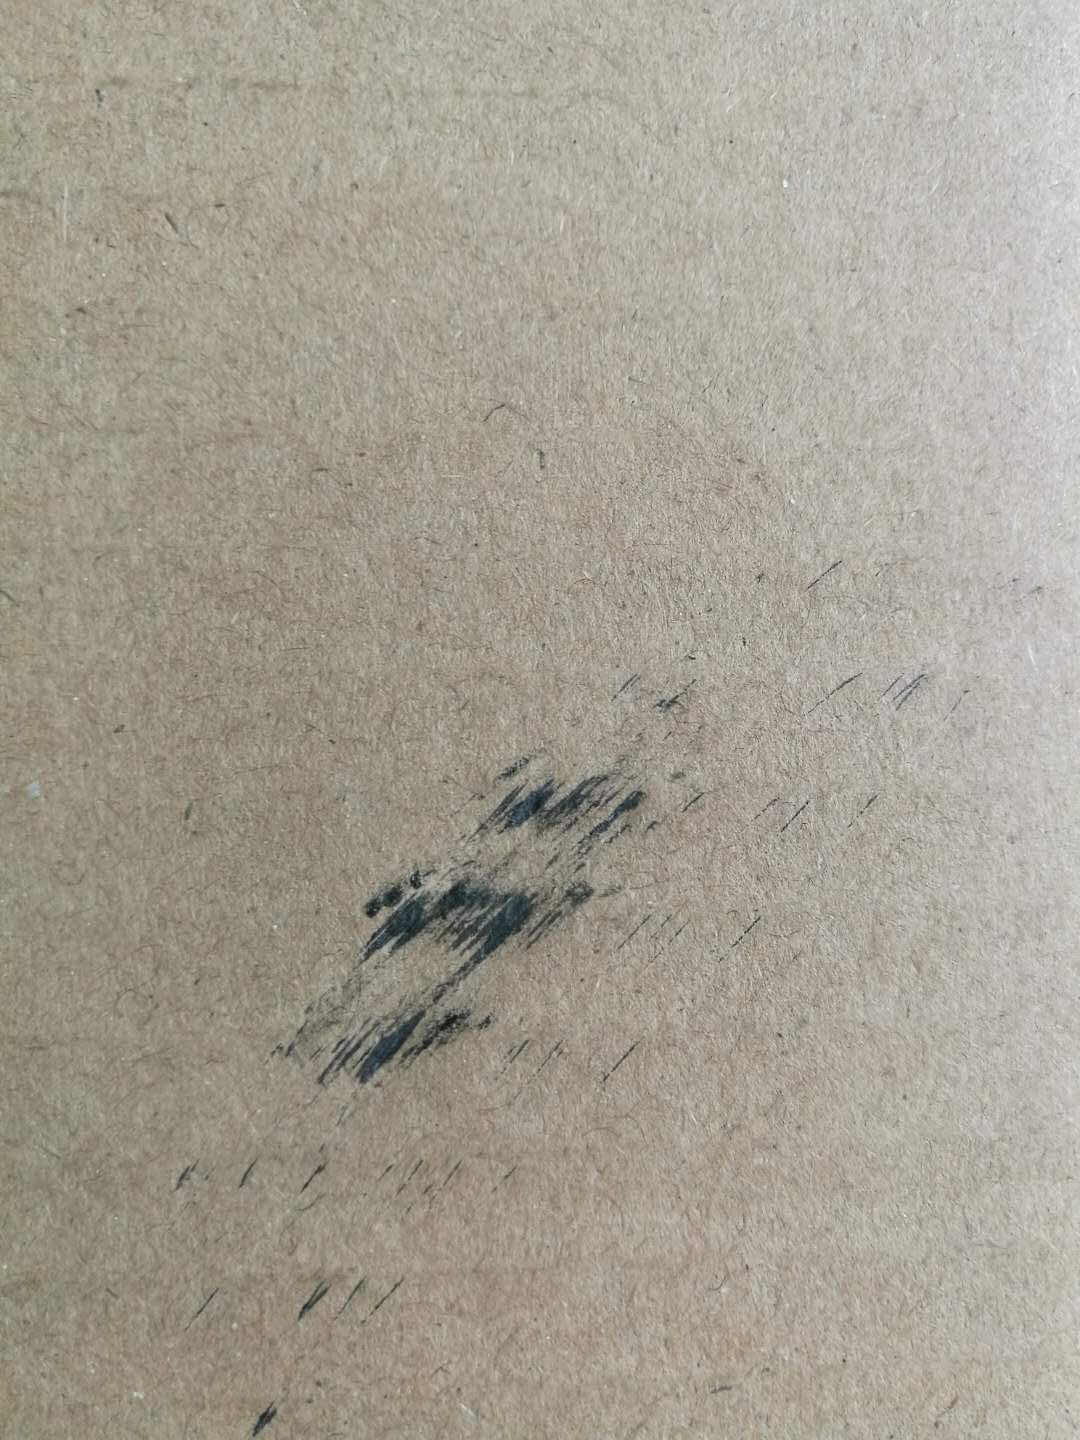defect: (100, 519, 1065, 1440)
